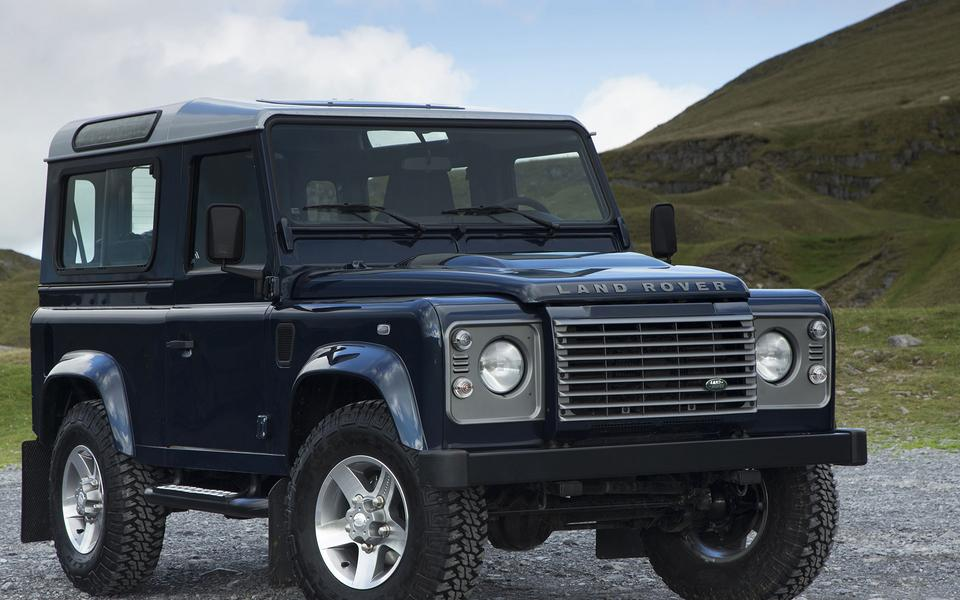汽车: (43, 96, 870, 600)
